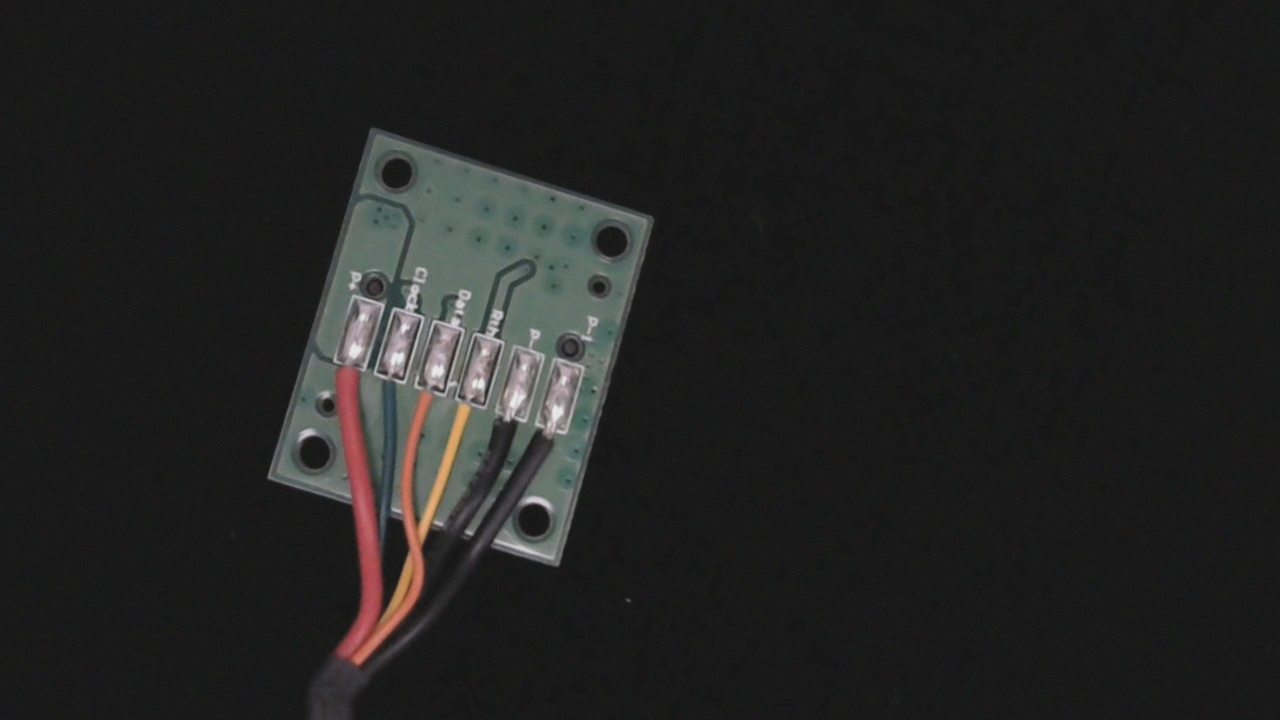Black: (477, 393, 533, 478)
Black1: (520, 409, 570, 481)
Green: (357, 353, 417, 440)
Orange: (397, 366, 456, 455)
Red: (315, 342, 375, 429)
Yellow: (438, 379, 492, 464)
